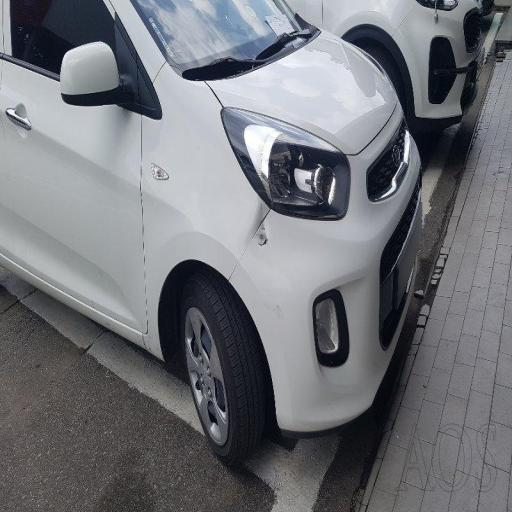dent: (182, 149, 314, 323)
